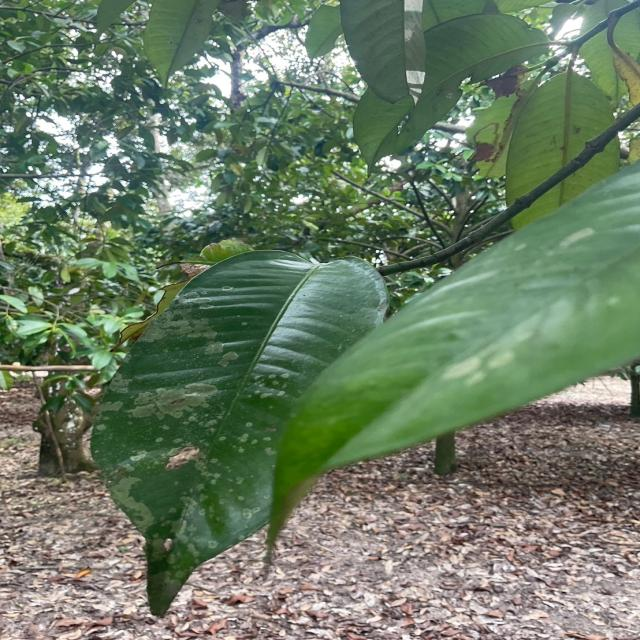Leaf Spot: (112, 302, 302, 552)
